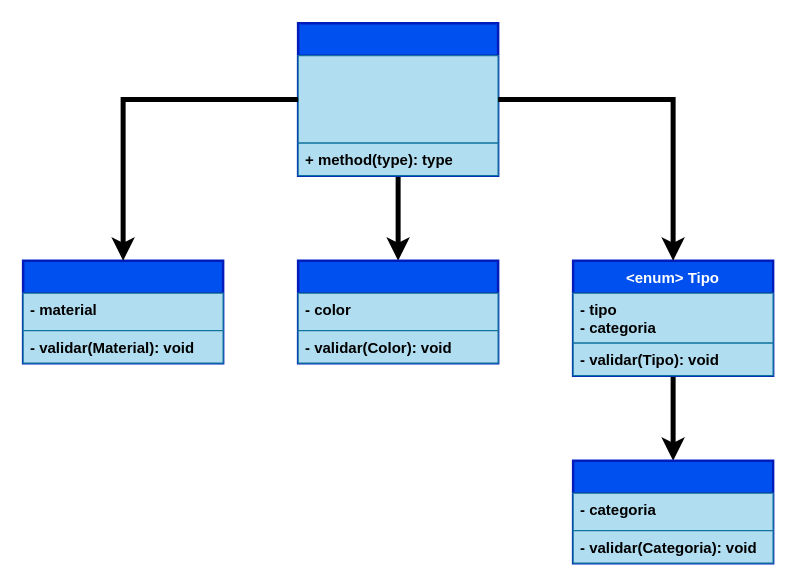
This 795x588 diagram has some shape labels left out. The shapes that lost their labels are listed below. From the top down, each one's box as (x1, y1, x2, y2) in pixels, then its label:
(297, 54, 498, 143): - tipo - material - colorPrincipal - colorSecundario
(296, 21, 499, 176): Prenda
(21, 259, 224, 364): <enum> Material
(296, 259, 499, 364): <enum> Color
(571, 459, 774, 564): <enum> Categoria
